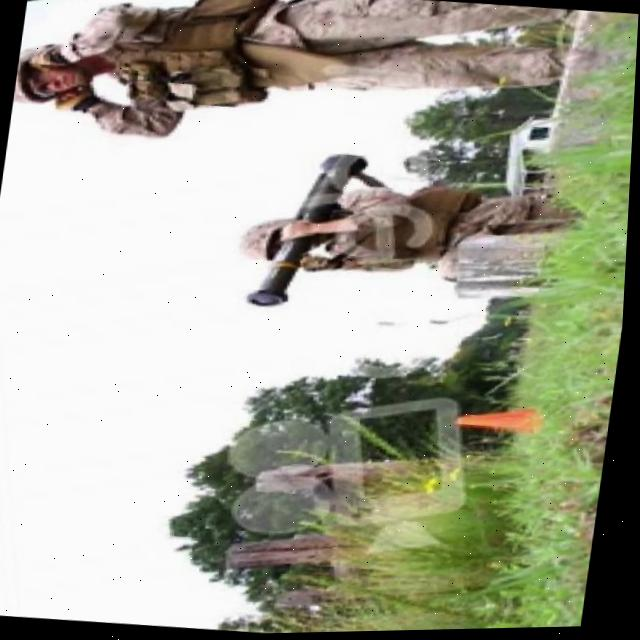rocket: (223, 140, 403, 317)
